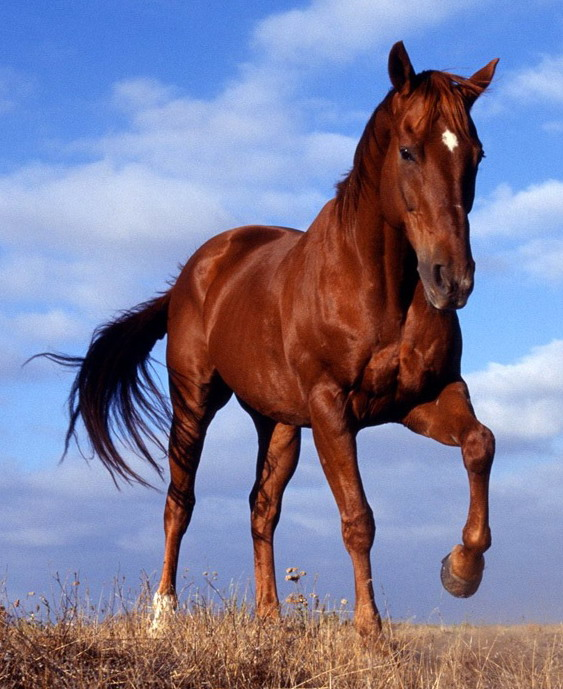horse: (26, 34, 503, 662)
